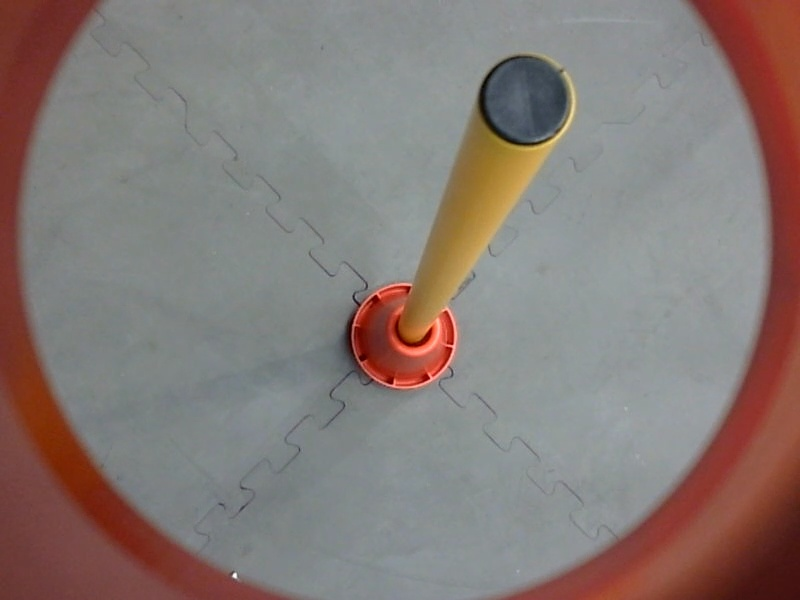tip: (465, 43, 587, 163)
